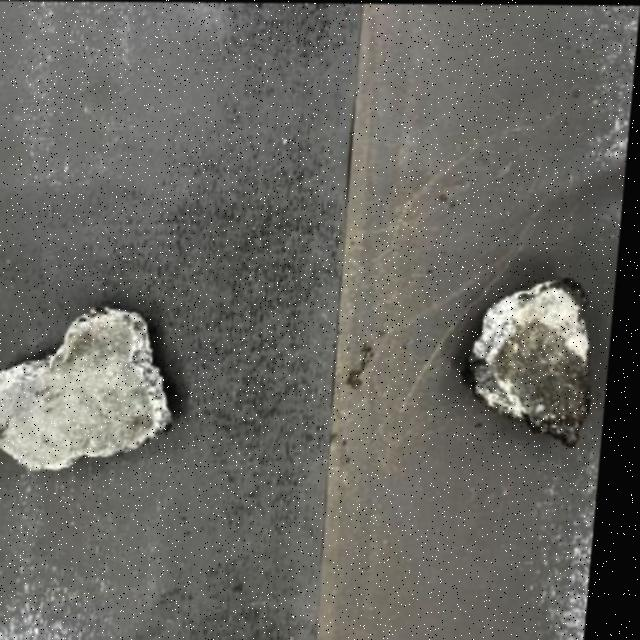Road Debris: (16, 321, 164, 468), (488, 318, 603, 442)
